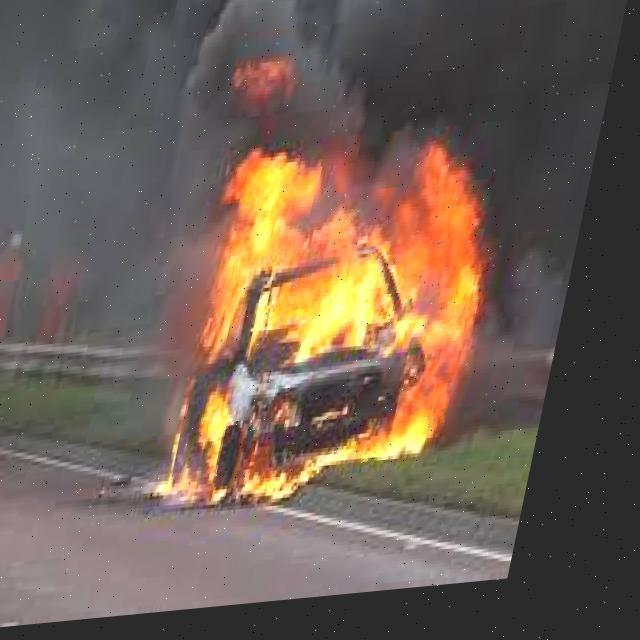Fire: (176, 131, 521, 519)
